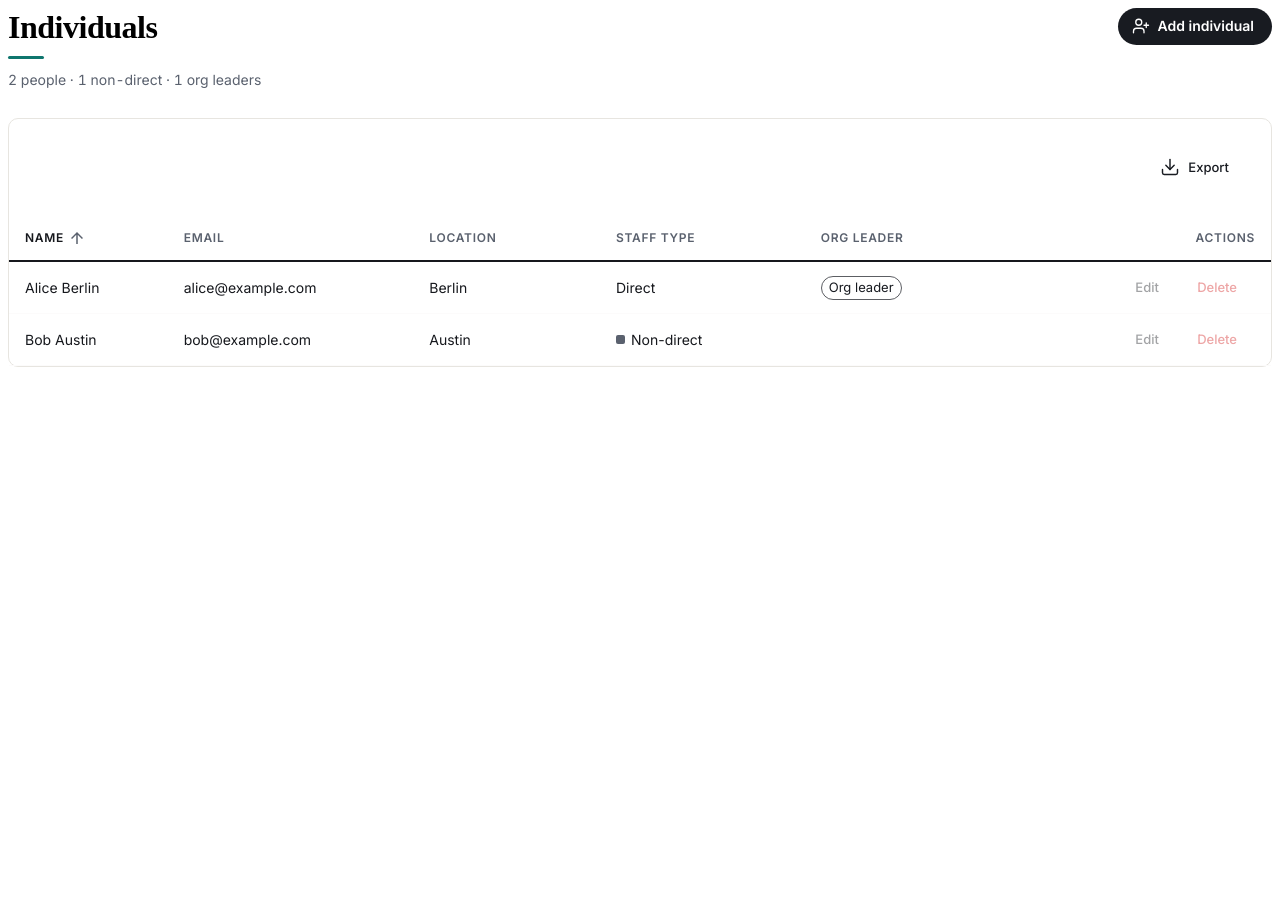
Test case: Individuals page › creates an individual with metadata and confirms with a toast
Expected: the text "Alice Berlin" is shown, [9, 261, 168, 313]
Click the button "Add individual" at (1195, 26), box [1118, 8, 1272, 44]
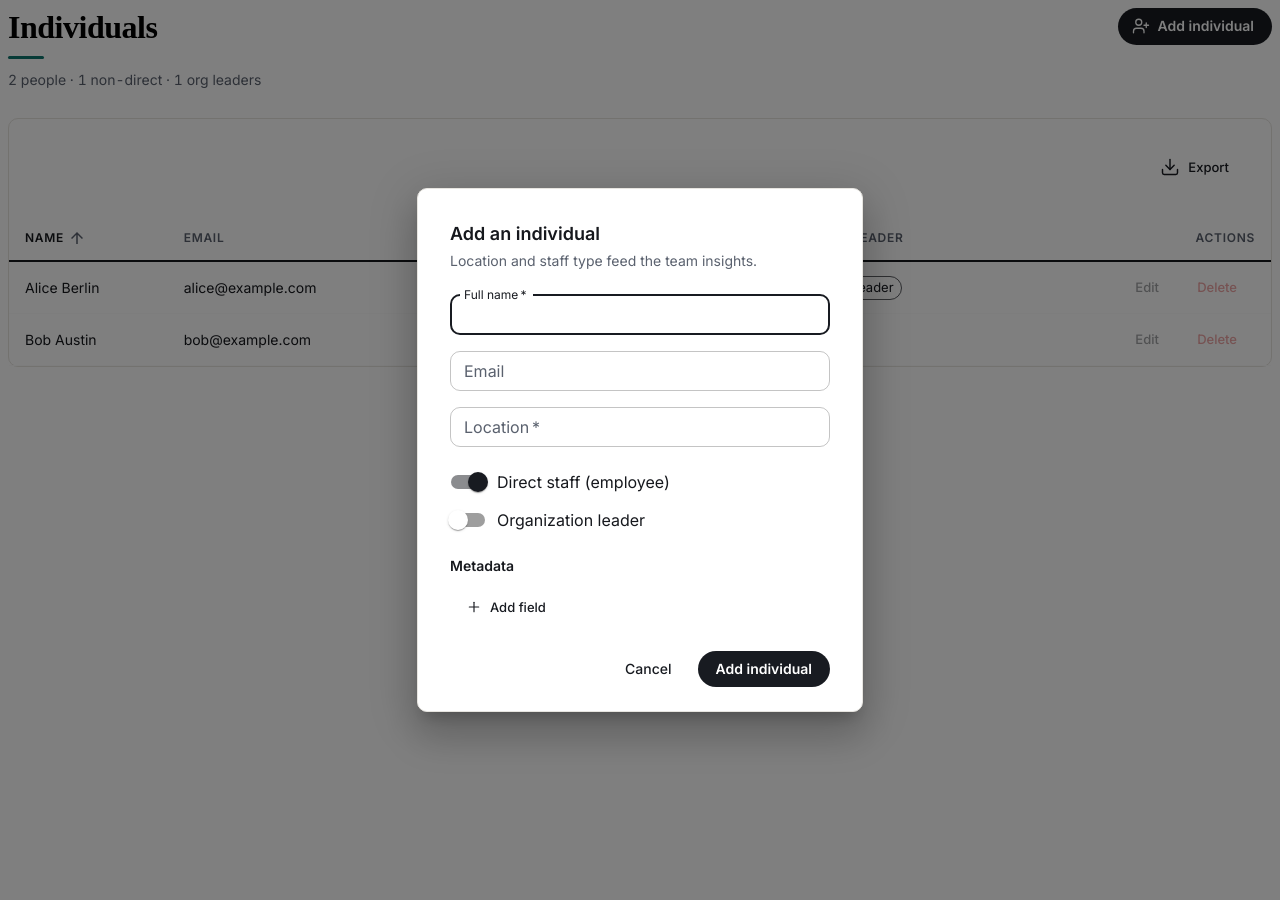
Type "Nia Park" into the field labelled "Full name *" at (640, 315), box [450, 295, 830, 335]
Type "Tokyo" into the field labelled "Location *" at (640, 427), box [450, 407, 830, 447]
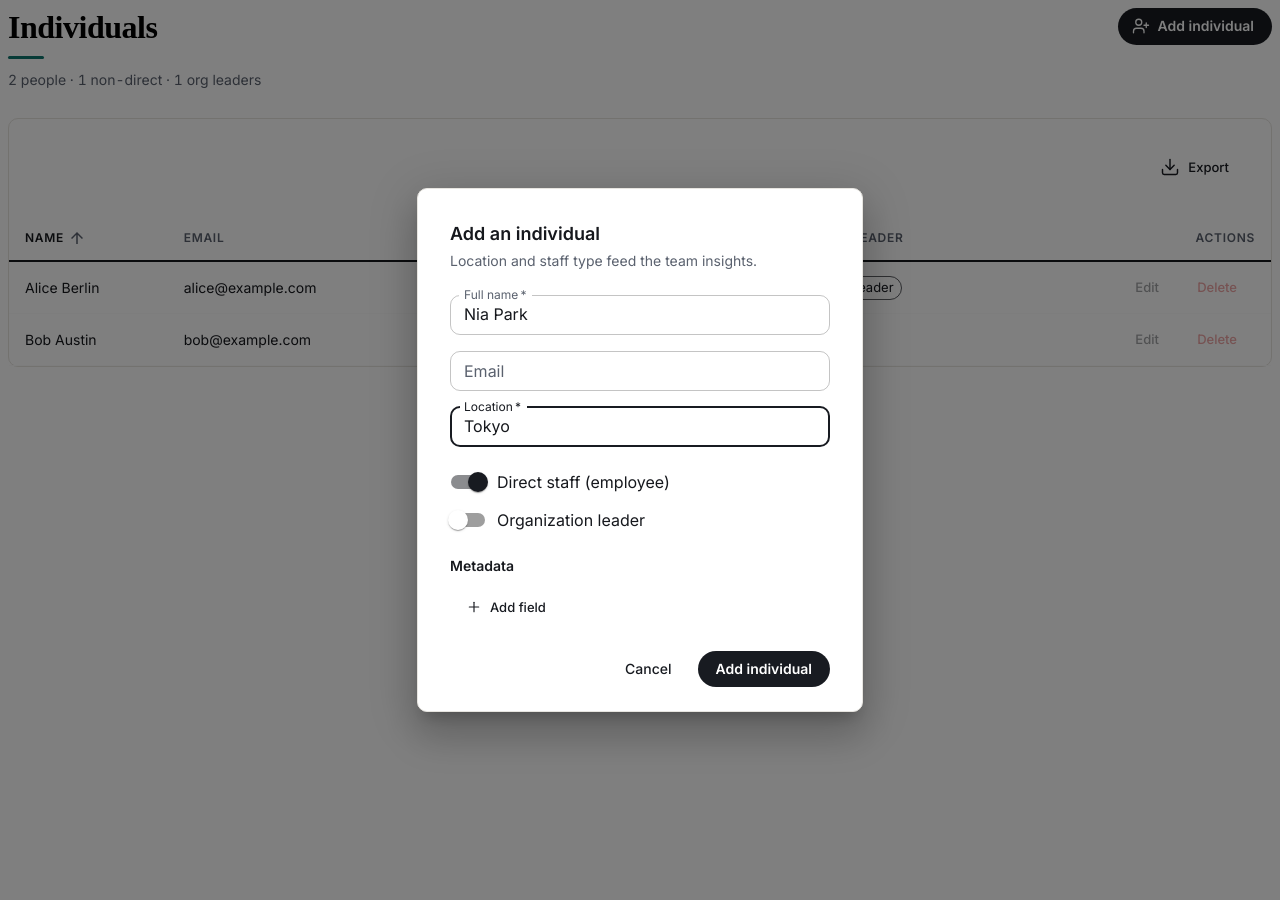
Click the checkbox labelled "Direct staff (employee)" at (560, 482), box [451, 472, 670, 492]
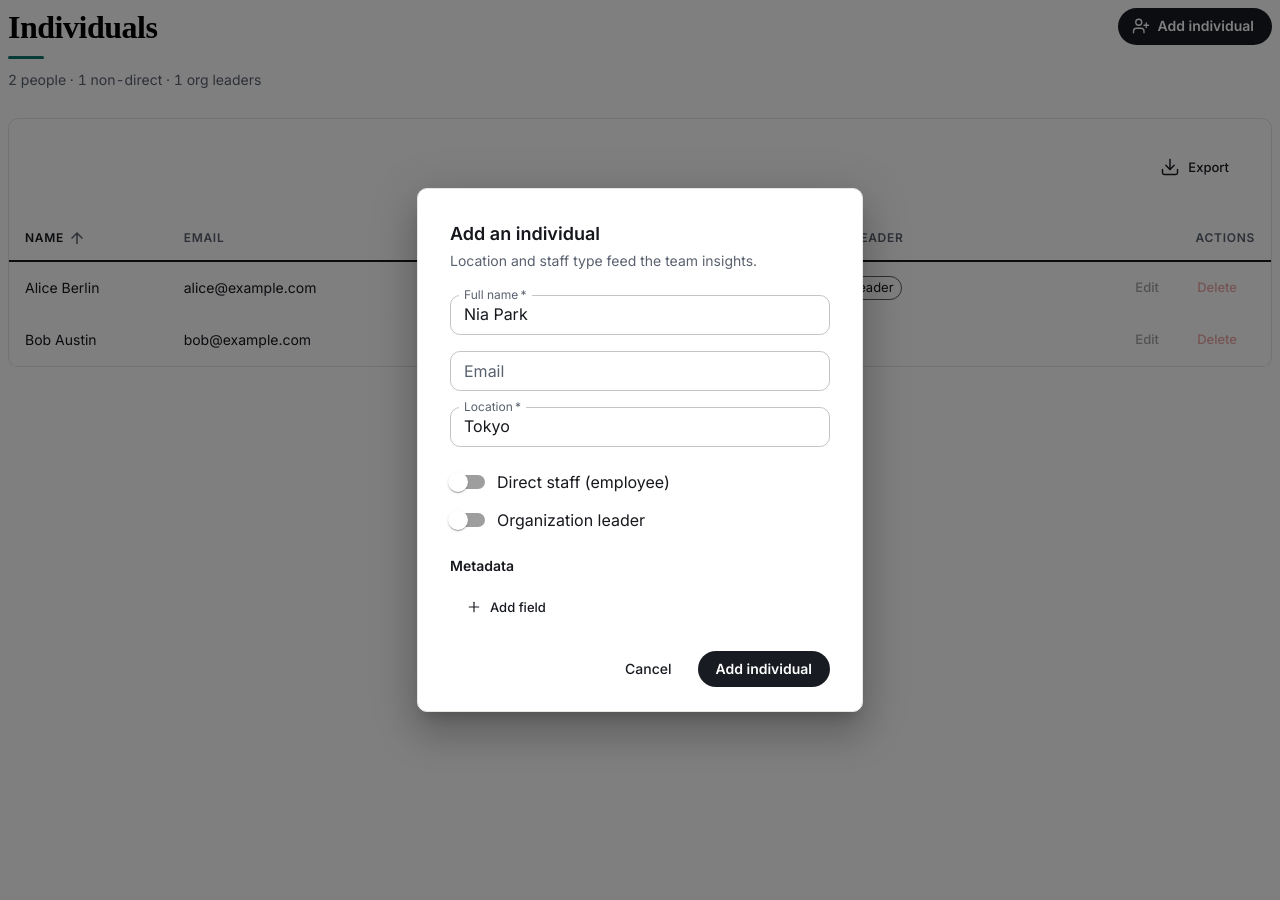
Click the button "Add field" at (507, 607), box [450, 592, 564, 623]
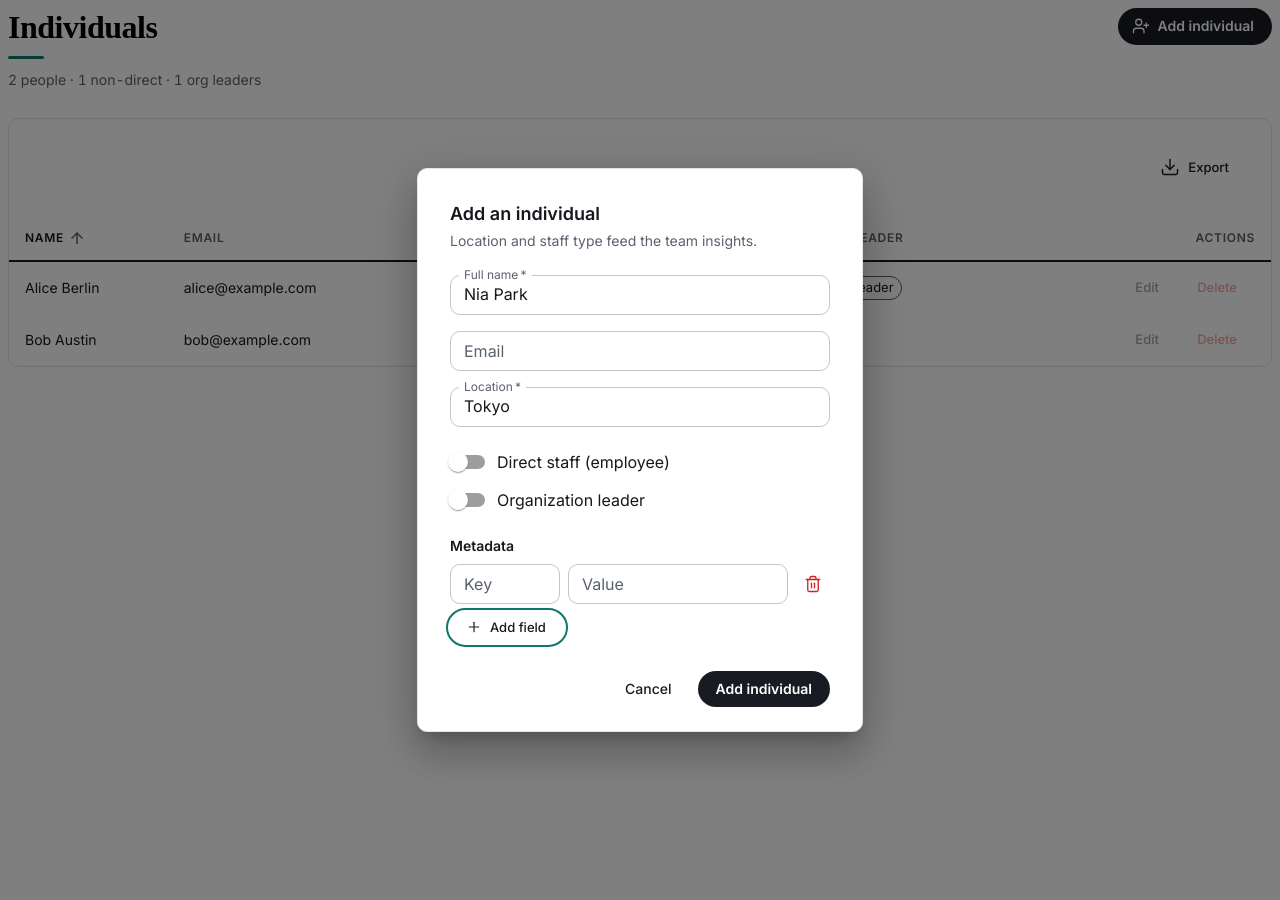
Type "skills" into the field labelled "Key" at (505, 584), box [450, 564, 560, 604]
Type "Terraform" into the field labelled "Value" at (678, 584), box [568, 564, 788, 604]
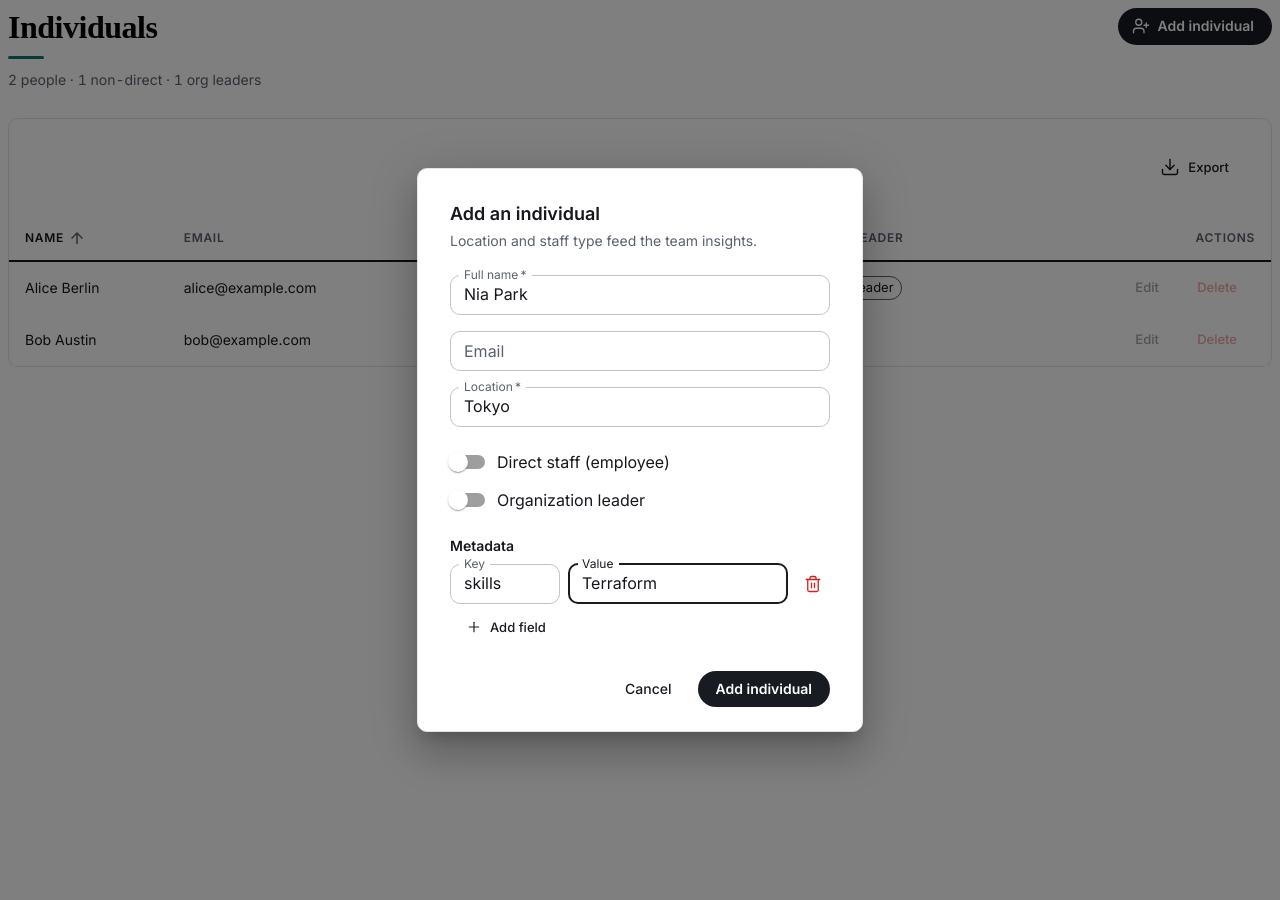
Click the button "Add individual" at (764, 689), box [698, 671, 830, 707]
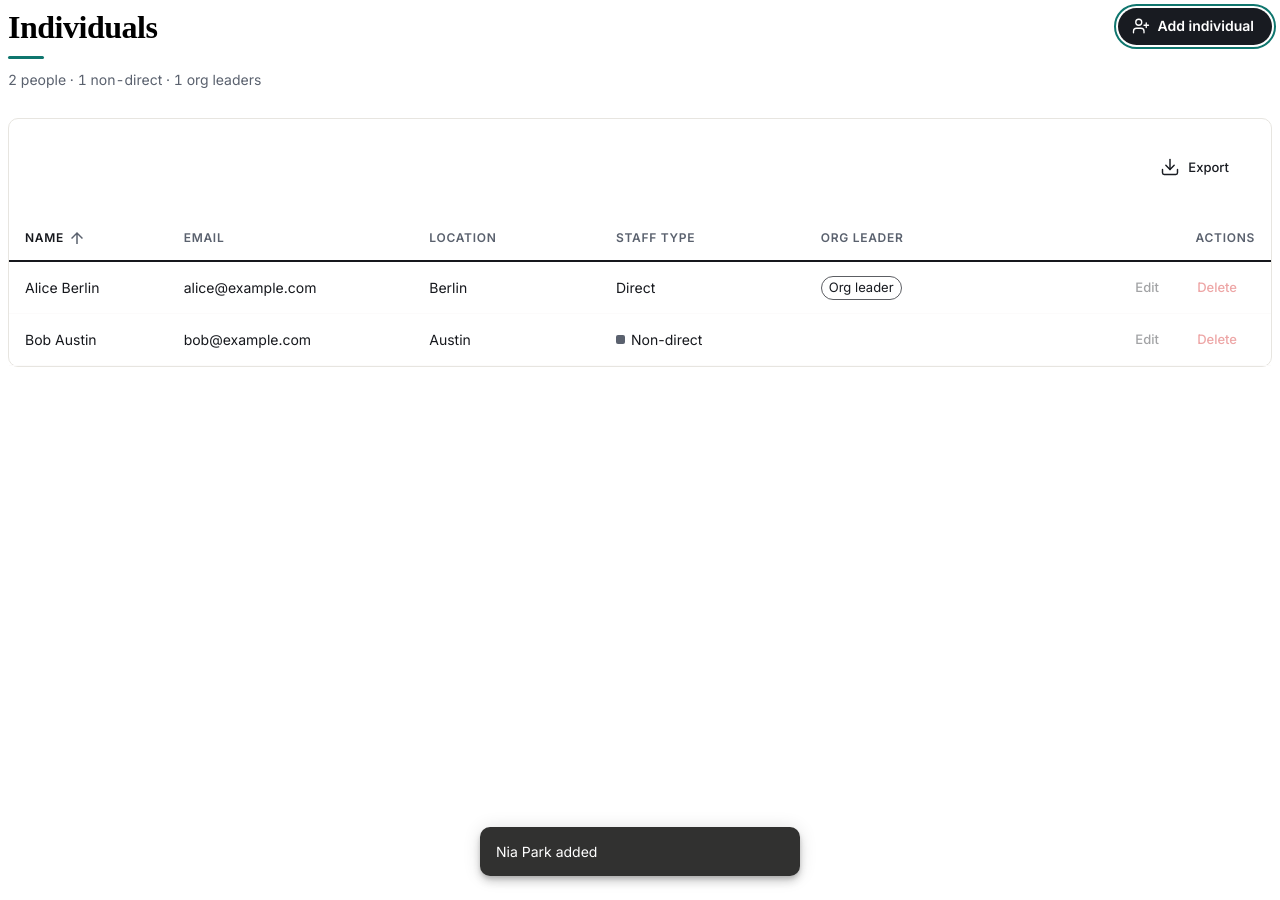
Expected: the text "Nia Park added" is shown, [496, 843, 597, 860]
